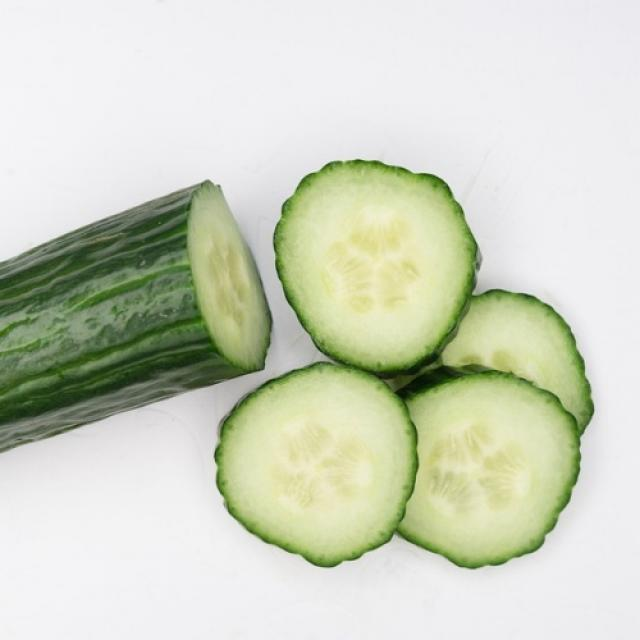cucumber: (206, 152, 620, 536), (262, 150, 515, 394), (343, 339, 590, 571)
